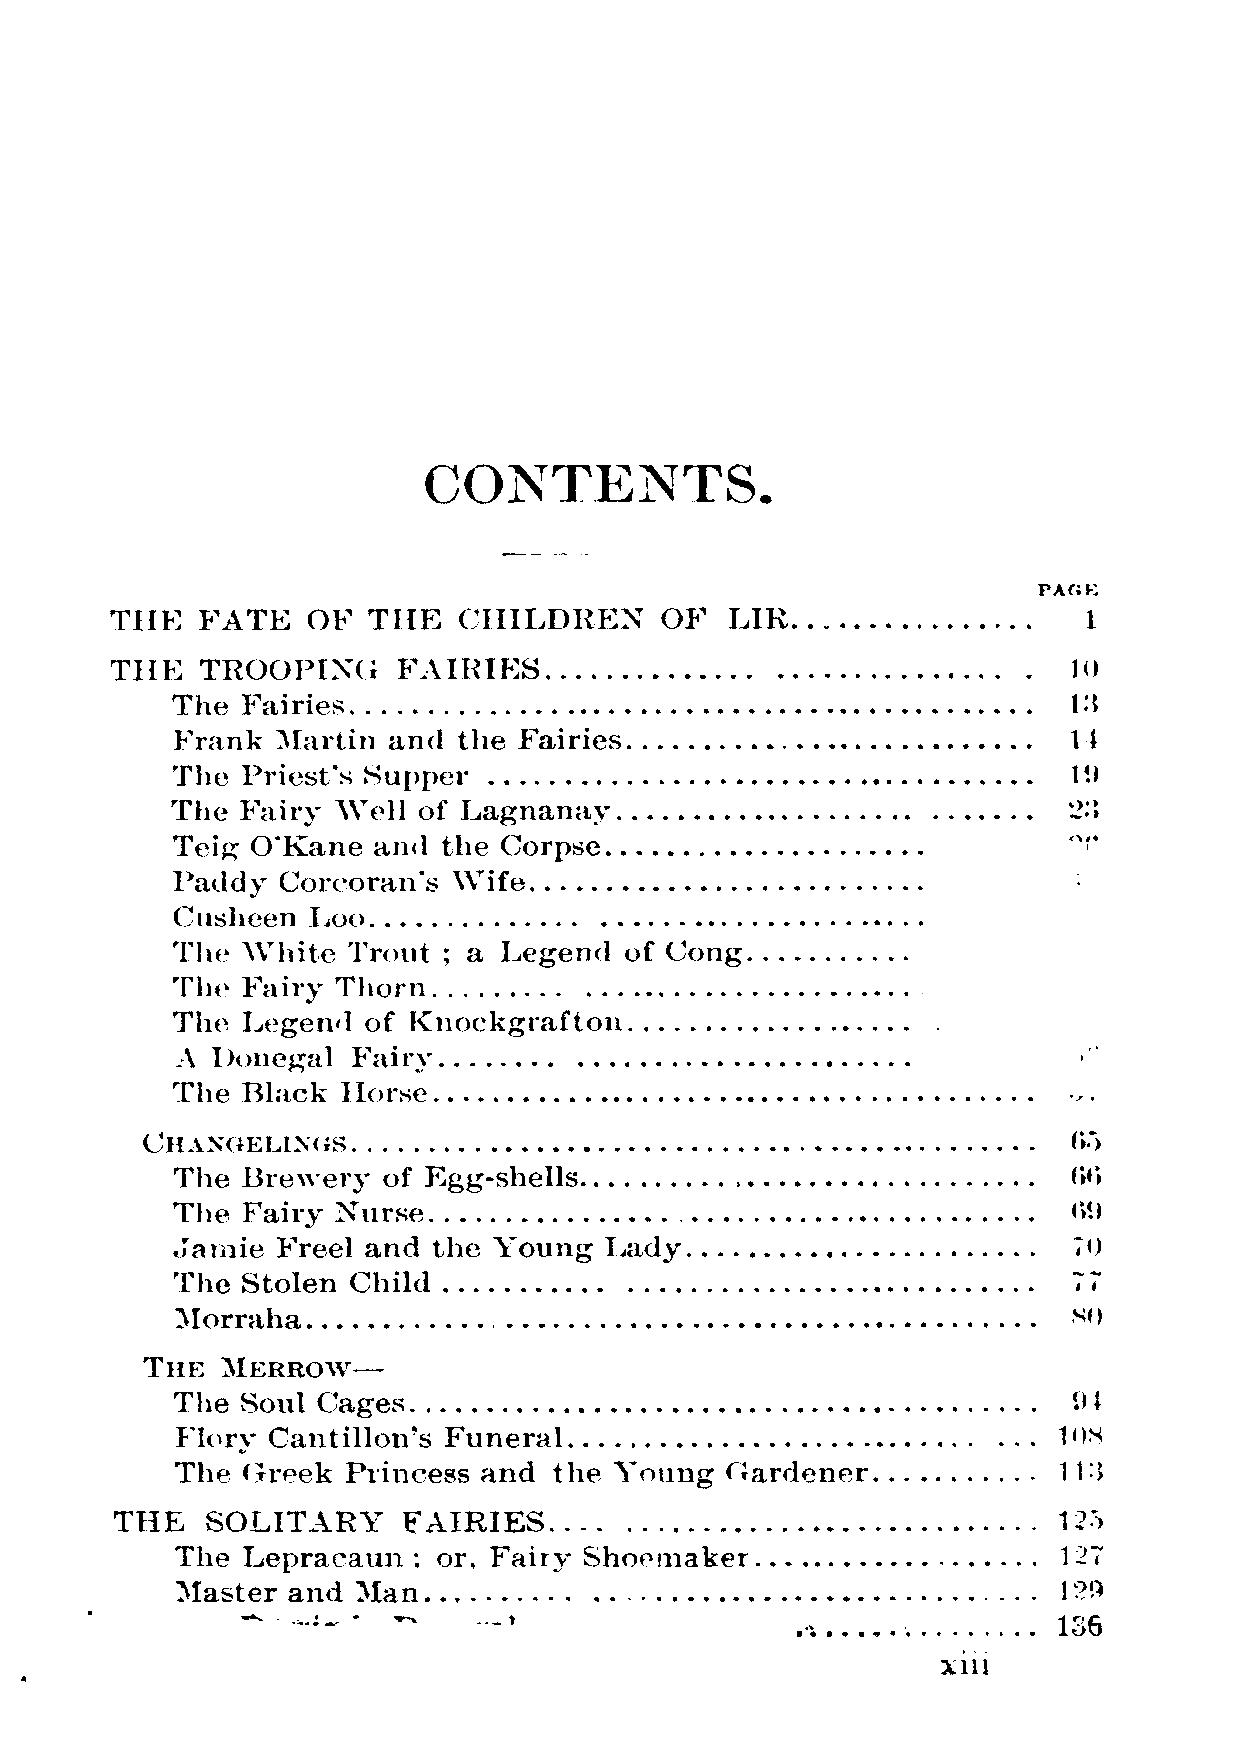TOC_chapter: (170, 931, 741, 968), (170, 1457, 868, 1487), (103, 605, 790, 633), (170, 1541, 749, 1571), (170, 1233, 682, 1263), (166, 1007, 619, 1037), (170, 794, 607, 825), (172, 832, 601, 863), (111, 1507, 548, 1537), (170, 723, 621, 752), (172, 1162, 582, 1193), (170, 866, 529, 896), (172, 1423, 566, 1449), (107, 655, 541, 679), (170, 760, 468, 792), (168, 970, 428, 1005), (166, 1078, 429, 1108), (170, 1040, 432, 1071), (170, 1266, 433, 1295), (170, 1197, 424, 1227), (166, 1388, 407, 1416), (174, 1580, 421, 1605), (140, 1351, 352, 1380), (170, 900, 360, 931), (142, 1129, 348, 1157), (170, 690, 344, 717), (172, 1304, 301, 1333)
TOC_pagenumber: (1053, 1610, 1106, 1641), (1056, 1420, 1106, 1448), (1056, 1455, 1104, 1482), (1060, 1541, 1106, 1567), (1059, 1577, 1106, 1601), (1059, 1507, 1107, 1530), (1068, 1129, 1110, 1153), (1068, 654, 1100, 684), (1070, 1384, 1103, 1413), (1070, 1264, 1104, 1292), (1070, 1302, 1104, 1329), (1066, 796, 1102, 821), (1066, 1235, 1106, 1257), (1067, 832, 1102, 858), (1070, 1162, 1104, 1188), (1064, 691, 1100, 715), (1070, 1198, 1104, 1223), (1068, 761, 1098, 785), (1070, 723, 1096, 749), (1079, 603, 1098, 632)
chapter: (420, 458, 774, 509)
